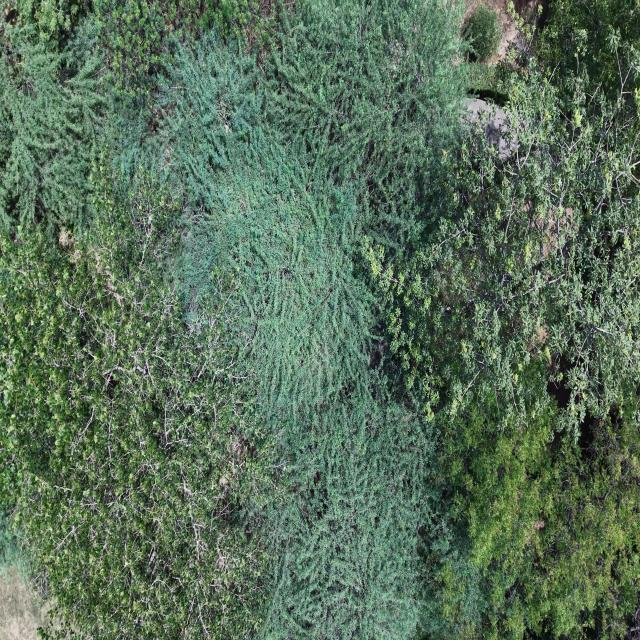DRY_AREA: (463, 0, 547, 65), (0, 567, 49, 639), (464, 0, 517, 64)
VEGETATION_TREE: (0, 0, 639, 639), (365, 28, 639, 637), (0, 166, 271, 637), (0, 24, 106, 239), (464, 4, 502, 60), (0, 513, 31, 577)
